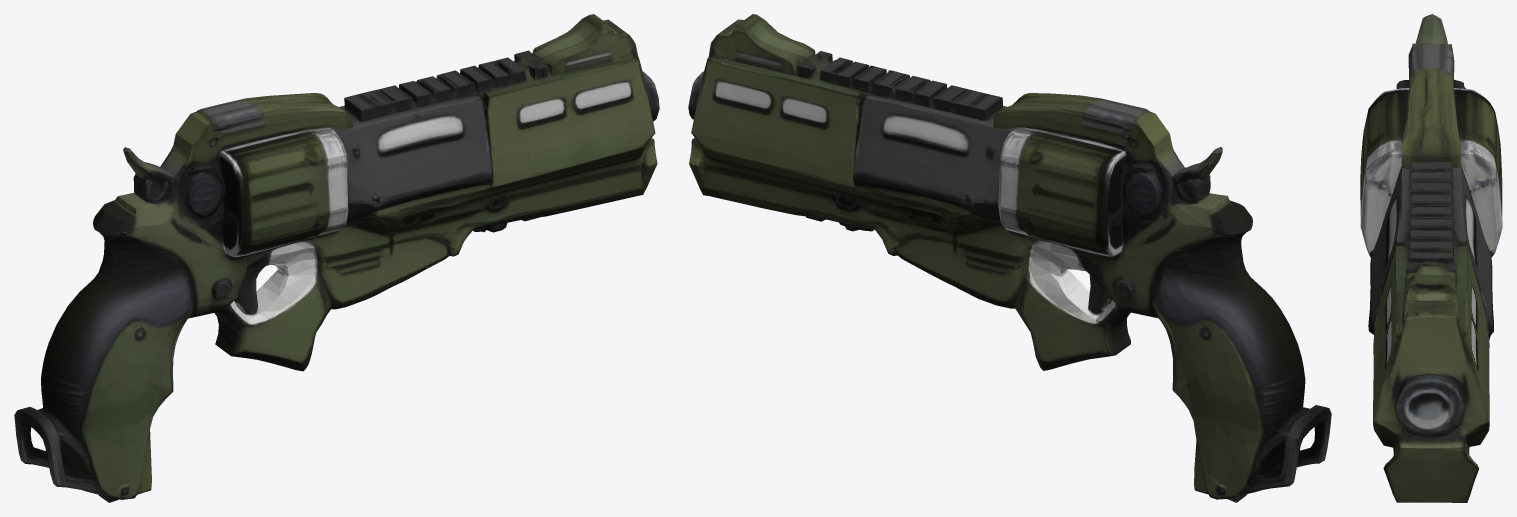
3 views of the same model, side by side, from view 1: azimuth 30°, elevation 25°; view 2: azimuth 150°, elevation 25°; view 3: azimuth 270°, elevation 25° (orthographic). The views are drawn at different scales.
Parts seen in each view (by area): view 1: world; view 2: world; view 3: world.
Boxes of the visible parts, box(x1,y1,x2,y2) form: world: box(14, 14, 659, 502); world: box(688, 14, 1331, 502); world: box(1360, 14, 1502, 502).
Bounding box in the file's own units: 0.9938 × 0.5567 × 0.1644.
1 material, 1 textured.
